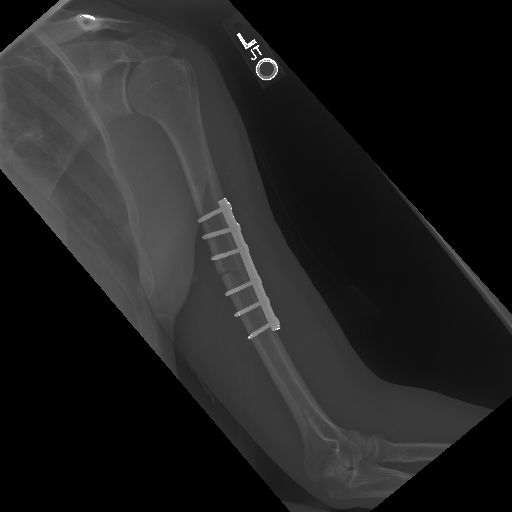implant: (200, 195, 280, 341)
